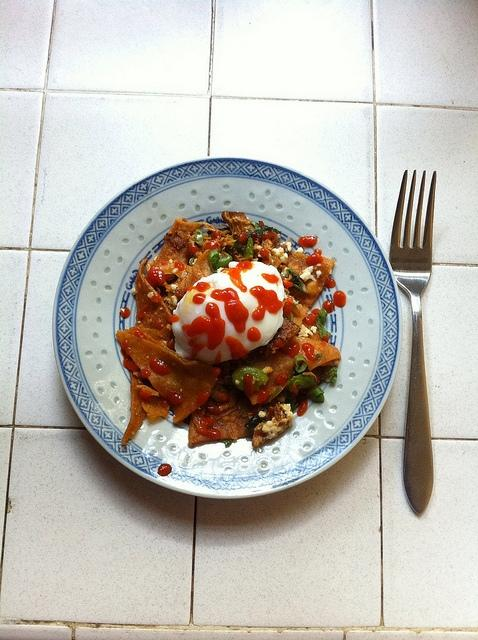green onion: (232, 367, 269, 391), (288, 374, 315, 390), (316, 310, 326, 338), (294, 354, 307, 373), (325, 366, 338, 384), (309, 388, 325, 402), (216, 256, 232, 270), (243, 237, 254, 257), (296, 278, 308, 294), (195, 229, 204, 245), (313, 394, 324, 403), (316, 354, 324, 358), (208, 231, 212, 237)
